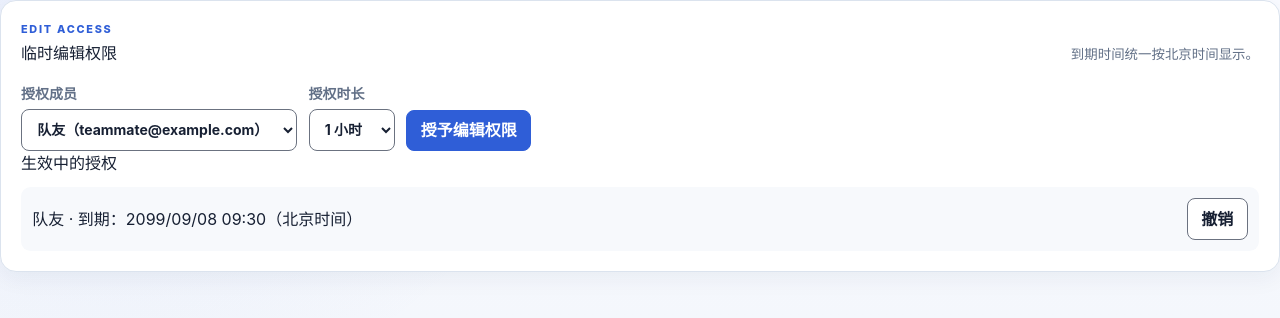
Test: keeps teammate and expiry selections after a safe server error
Select "自定义" in the dropdown labelled "授权时长" at (352, 130), box [309,109,395,151]
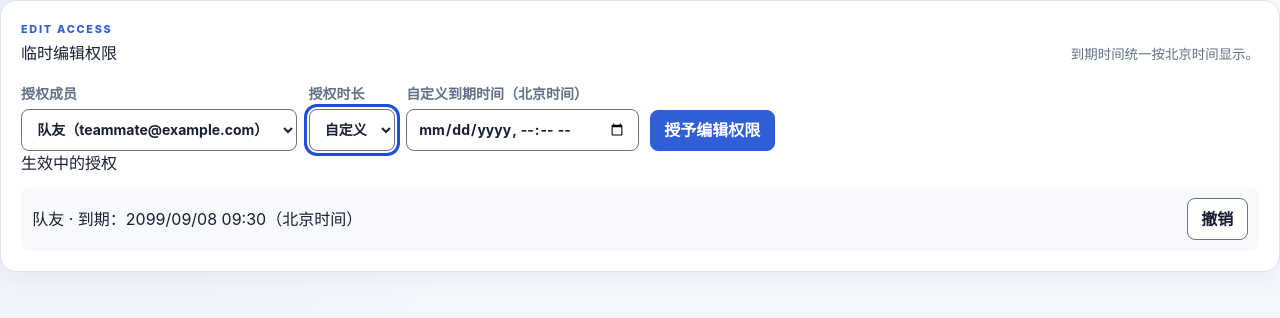
Type "2026-09-09T12:00" into the field labelled "自定义到期时间（北京时间）" at (522, 130), box [406,109,638,151]
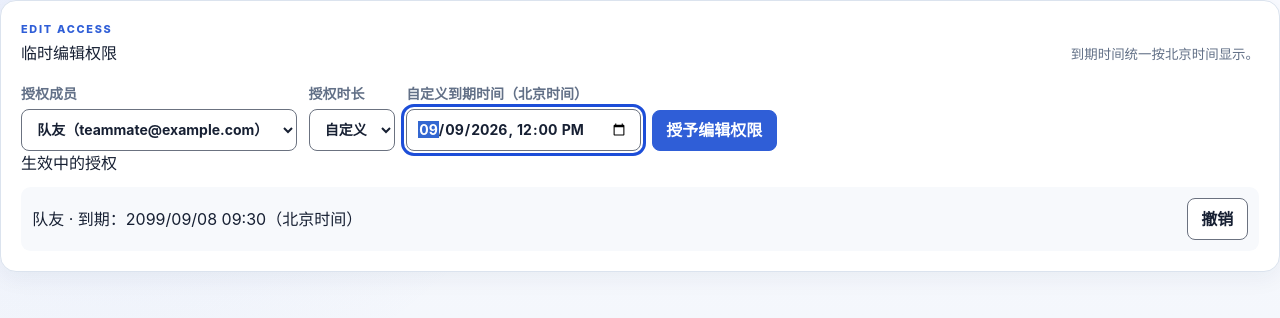
Click the button "授予编辑权限" at (714, 130), box [652,110,777,151]
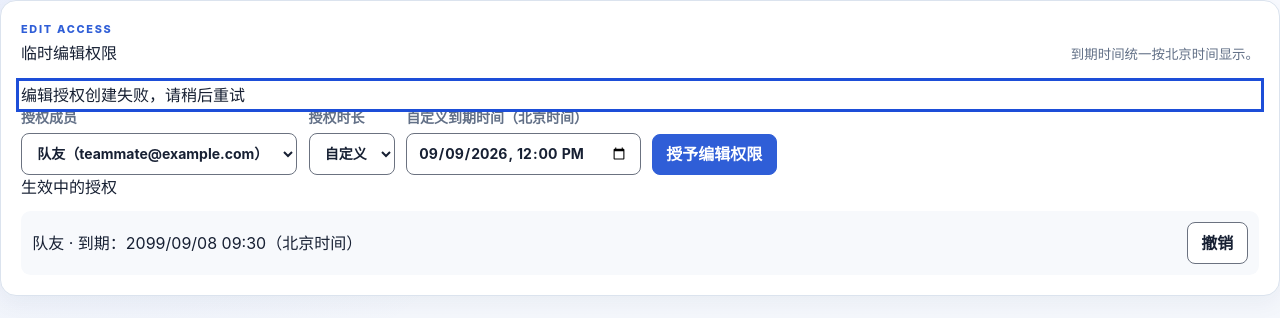
Expected: the dropdown labelled "授权成员" shows "队友（teammate@example.com）", [21,133,297,175]
Expected: the message reads "编辑授权创建失败，请稍后重试", [21,85,245,105]
